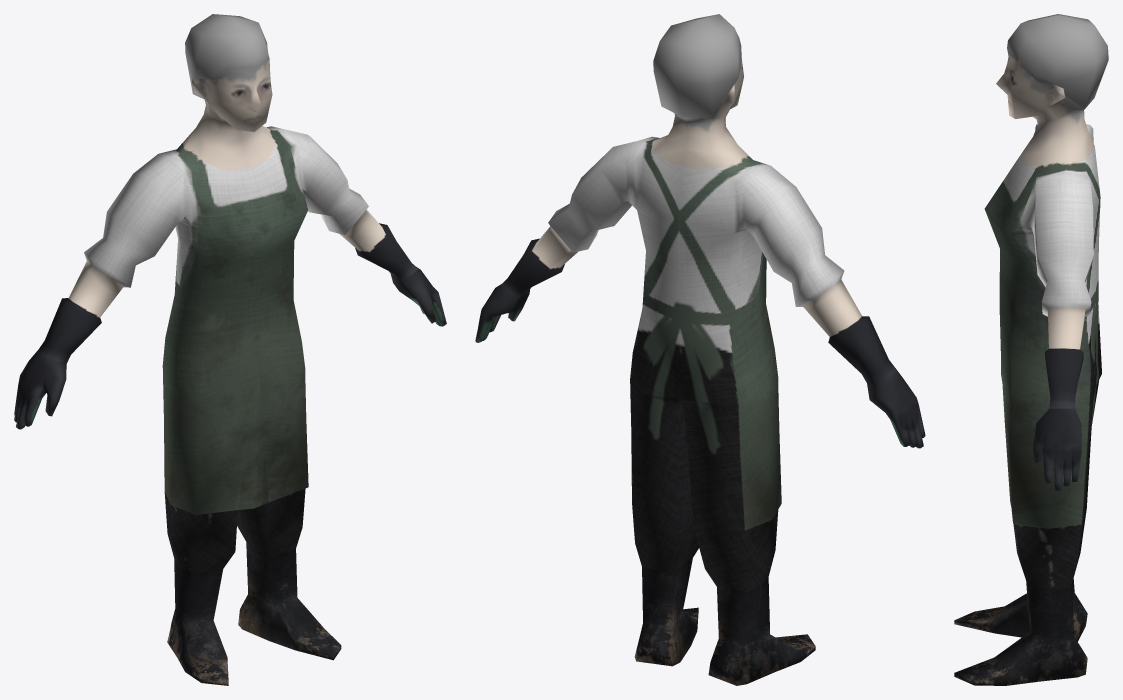
3 renders of one model, left to right at view 1: azimuth 30°, elevation 25°; view 2: azimuth 150°, elevation 25°; view 3: azimuth 270°, elevation 25°, orthographic. The views are drawn at different scales.
Visible parts, largest first — view 1: Babka_Geo; view 2: Babka_Geo; view 3: Babka_Geo.
Part boxes in pixels (box(x1,y1,x2,y2)): Babka_Geo: box(14, 14, 446, 685); Babka_Geo: box(475, 14, 925, 685); Babka_Geo: box(954, 14, 1108, 685).
Bounding box in the file's own units: 150 × 207 × 45.76.
